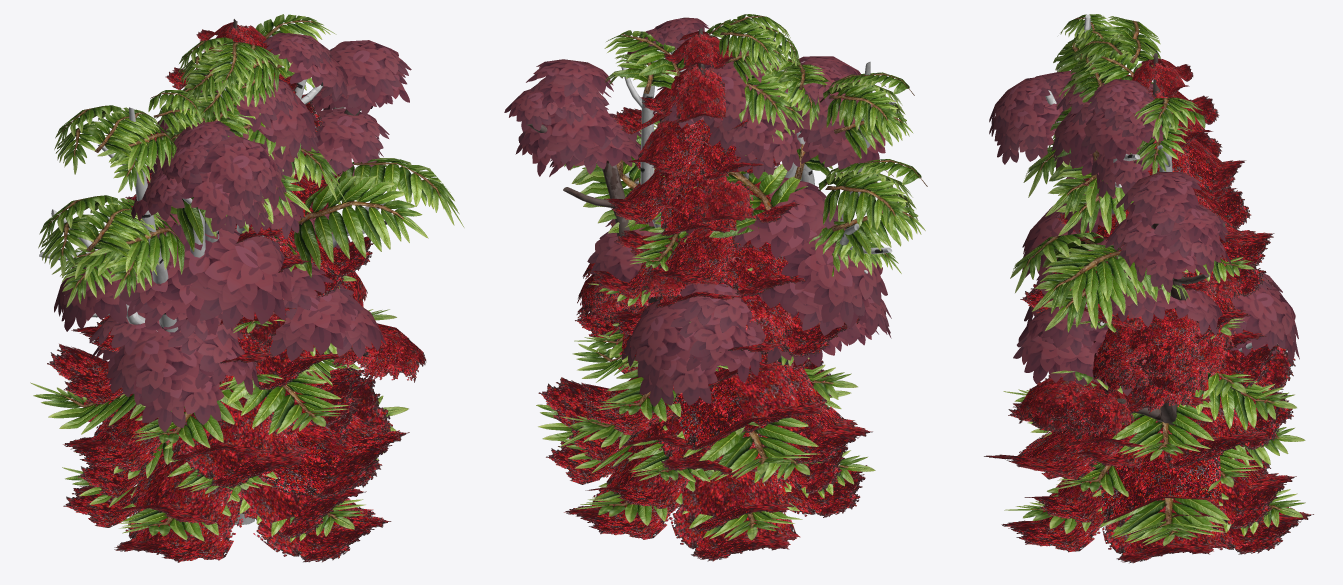
File: AllTrees.fbx
3 views of the same model, side by side, from view 1: azimuth 30°, elevation 25°; view 2: azimuth 150°, elevation 25°; view 3: azimuth 270°, elevation 25° (orthographic). The views are drawn at different scales.
Parts seen in each view (by area): view 1: Birch_3, Pine_3, Birch_4, Pine_5, Tree_2, Pine_1, Birch_9, Birch_2, Tree_3; view 2: Pine_5, Birch_3, Pine_3, Pine_1, Tree_2, Birch_2, Birch_9, Birch_4, Tree_3; view 3: Pine_5, Birch_3, Pine_1, Tree_3, Birch_2, Pine_3, Birch_4, Tree_2, Birch_9, DeadTree_3.
Part boxes in pixels (box(x1,y1,x2,y2)): Birch_3: box(38, 14, 464, 524); Pine_3: box(63, 166, 409, 562); Birch_4: box(135, 32, 348, 524); Pine_5: box(47, 19, 392, 538); Tree_2: box(91, 265, 387, 432); Pine_1: box(30, 227, 408, 541); Birch_9: box(54, 101, 304, 389); Birch_2: box(300, 40, 411, 266); Tree_3: box(186, 271, 426, 382); Pine_5: box(538, 27, 847, 532); Birch_3: box(564, 14, 927, 276); Pine_3: box(546, 161, 872, 561); Pine_1: box(536, 174, 875, 540); Tree_2: box(622, 283, 891, 406); Birch_2: box(504, 59, 703, 282); Birch_9: box(709, 70, 888, 335); Birch_4: box(626, 17, 862, 258); Tree_3: box(576, 257, 793, 338); Pine_5: box(1024, 53, 1296, 534); Birch_3: box(1010, 14, 1209, 332); Pine_1: box(1003, 257, 1305, 545); Tree_3: box(1017, 272, 1240, 436); Birch_2: box(1091, 140, 1231, 334); Pine_3: box(984, 183, 1313, 563); Birch_4: box(989, 70, 1168, 277); Tree_2: box(1013, 268, 1299, 396); Birch_9: box(989, 93, 1134, 234); DeadTree_3: box(1117, 398, 1177, 424).
Size of the model in its own units: 876 by 1038 by 732.
